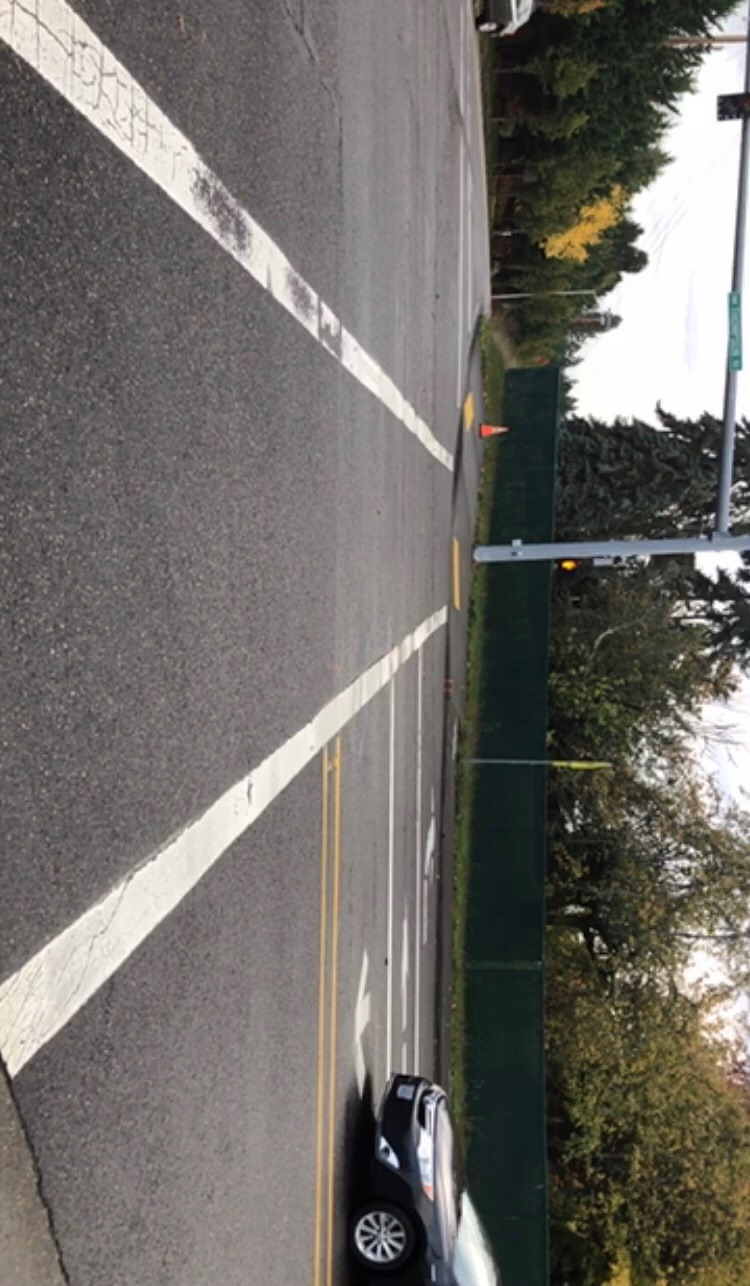car: (349, 1073, 500, 1285)
crosswalk: (0, 14, 459, 1032)
pedestrian_stop: (558, 558, 583, 583)
pole: (473, 532, 749, 565)
